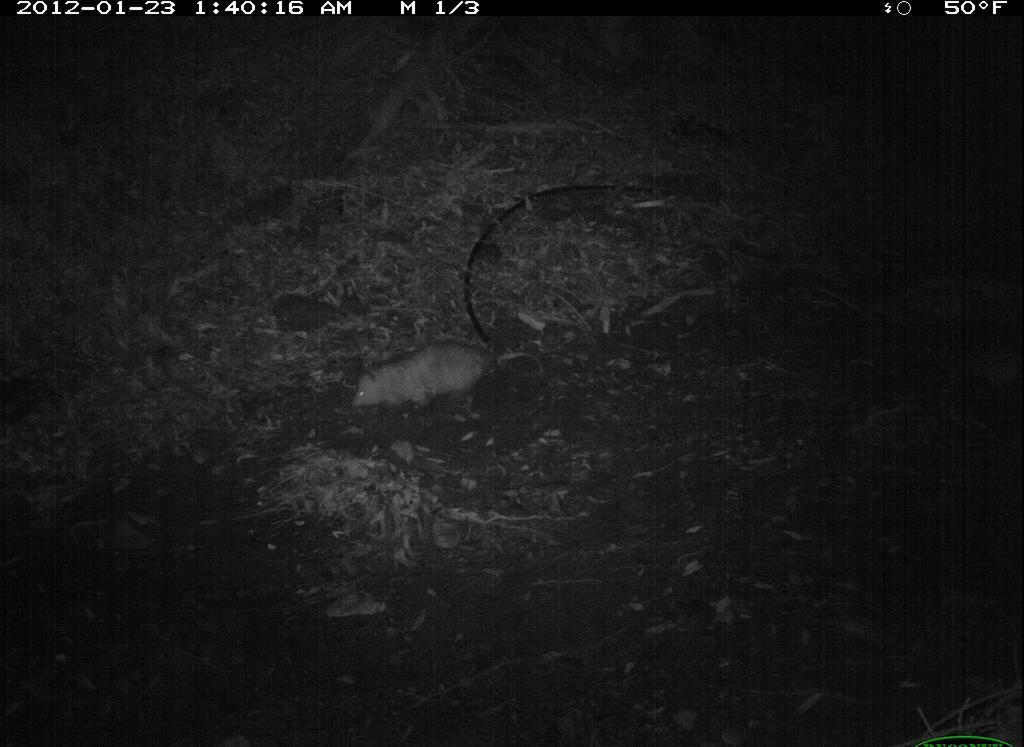opossum: (317, 306, 539, 414)
